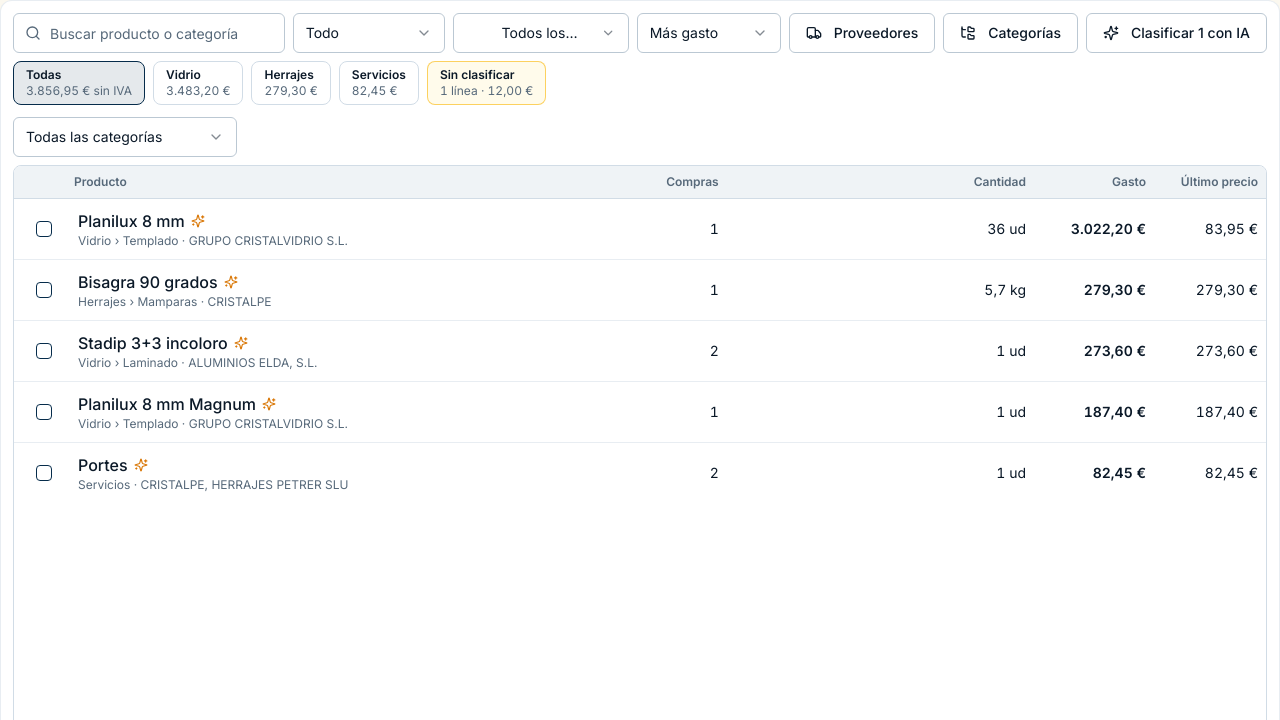
Scenario: TabProductos › abrir un producto enseña su ficha
Click the text "Stadip 3+3 incoloro".
click(153, 343)  # box [78,331,228,355]
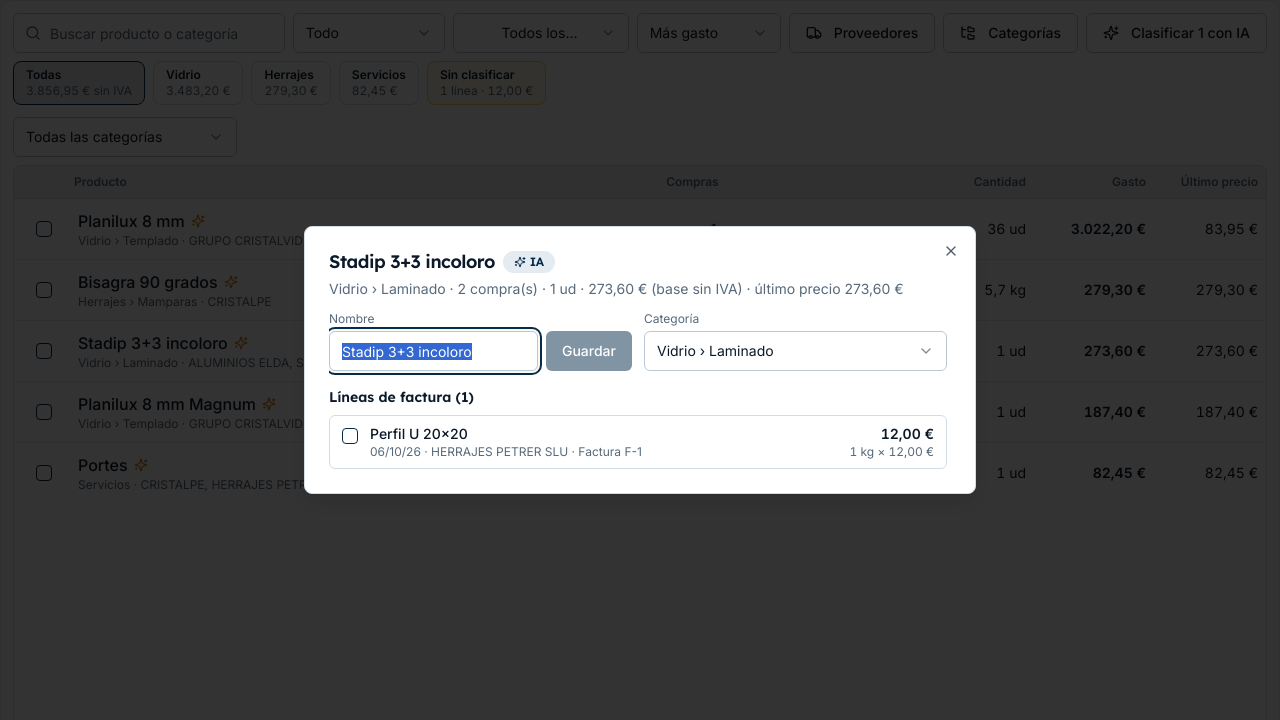
Check: the text "Vidrio › Laminado · 2 compra" is shown, box [329,279,919,299]
Check: the field labelled "Nombre" holds "Stadip 3+3 incoloro", box [329,331,538,371]
